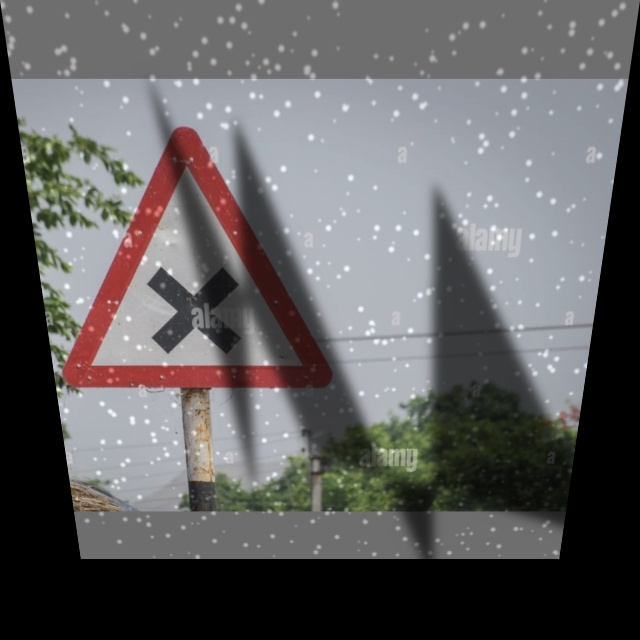Cross_Road: (49, 141, 333, 386)
